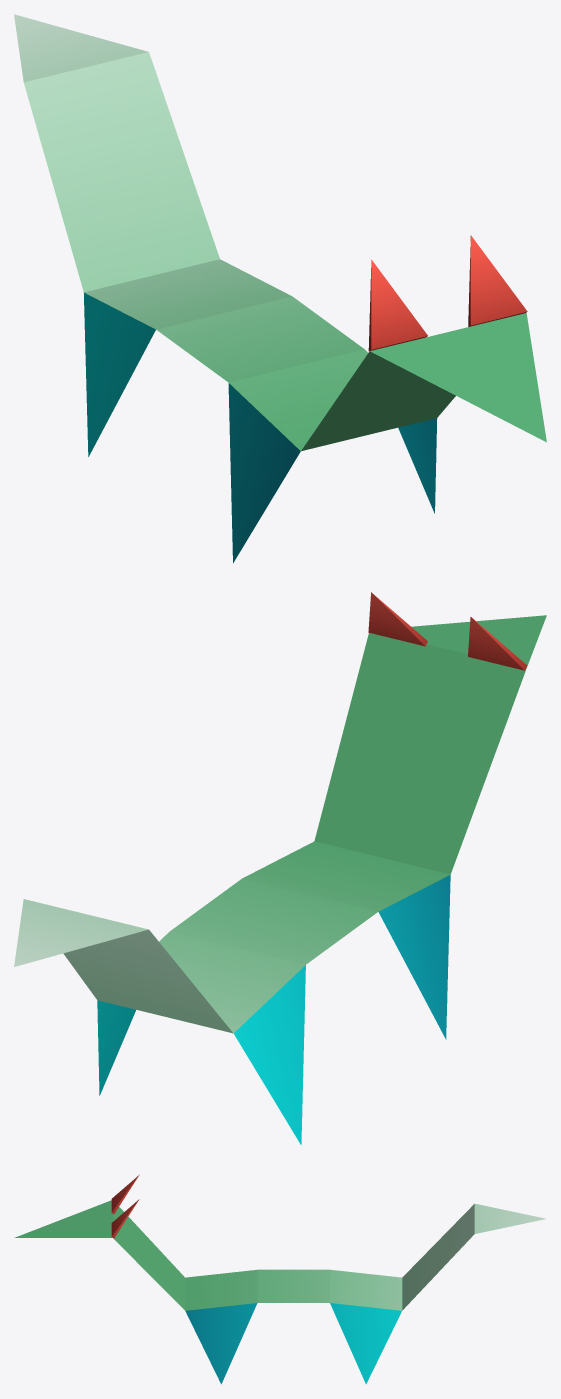
The model's file is protoDragon.fbx.
3 views of the same model, one above another, from view 1: azimuth 30°, elevation 25°; view 2: azimuth 150°, elevation 25°; view 3: azimuth 270°, elevation 25° (orthographic). The views are drawn at different scales.
Visible parts, largest first — view 1: polySurface1; view 2: polySurface1; view 3: polySurface1.
Boxes of the visible parts, x1,y1,x2,y2 form: polySurface1: [14, 14, 546, 563]; polySurface1: [14, 592, 546, 1144]; polySurface1: [14, 1174, 546, 1384].
Size of the model in its own units: 0.2014 by 0.3337 by 0.9208.
